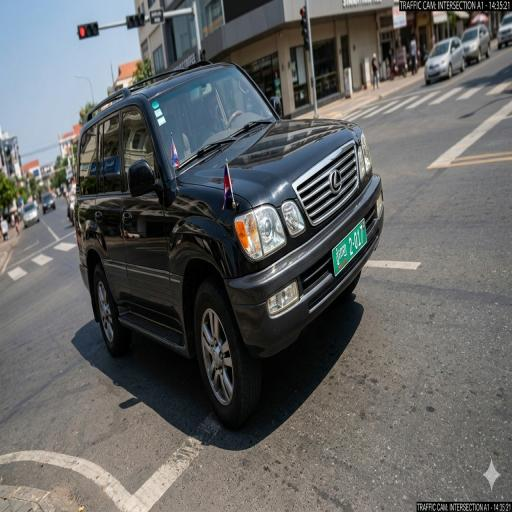Plate Number: (332, 217, 367, 278)
